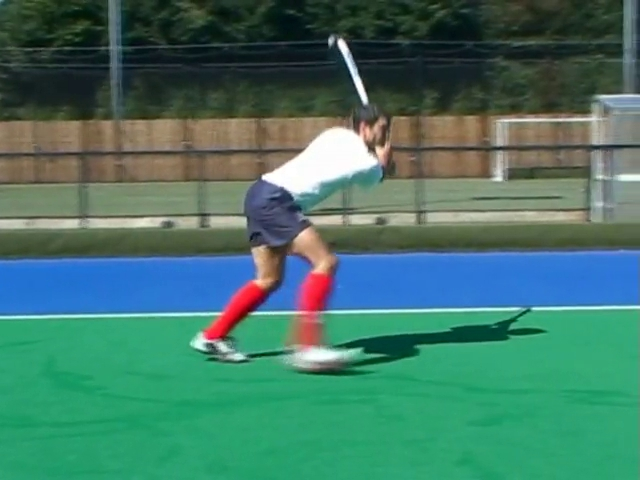person: (189, 104, 397, 375)
